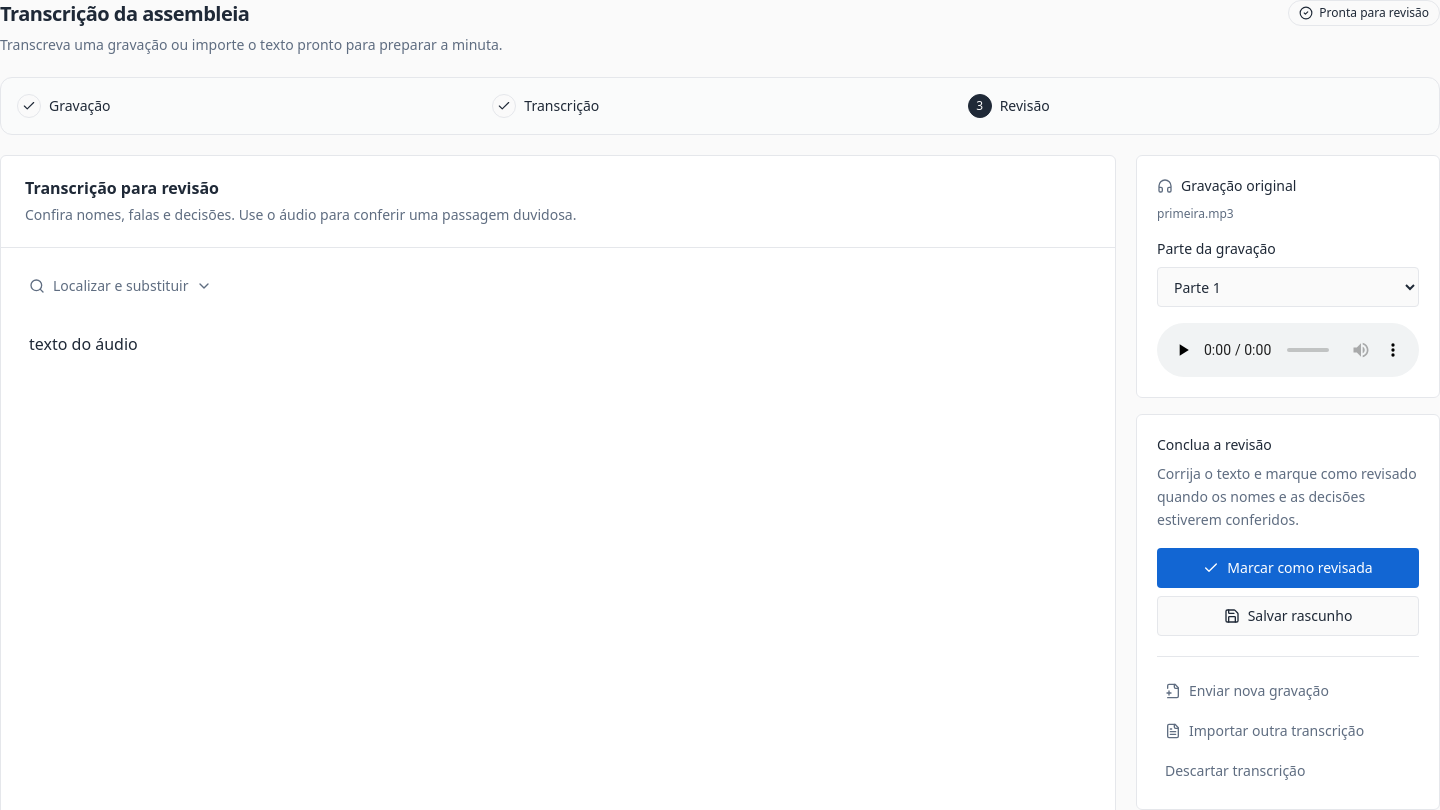
Test: AtaTranscriptionPanel · revisão das partes › plays the selected part and allows moving past an unavailable recording
Later steps or results of the test are not shown.
Select "Parte 2" in the dropdown labelled "Parte da gravação". click: (1288, 287)
box: [1157, 267, 1419, 307]
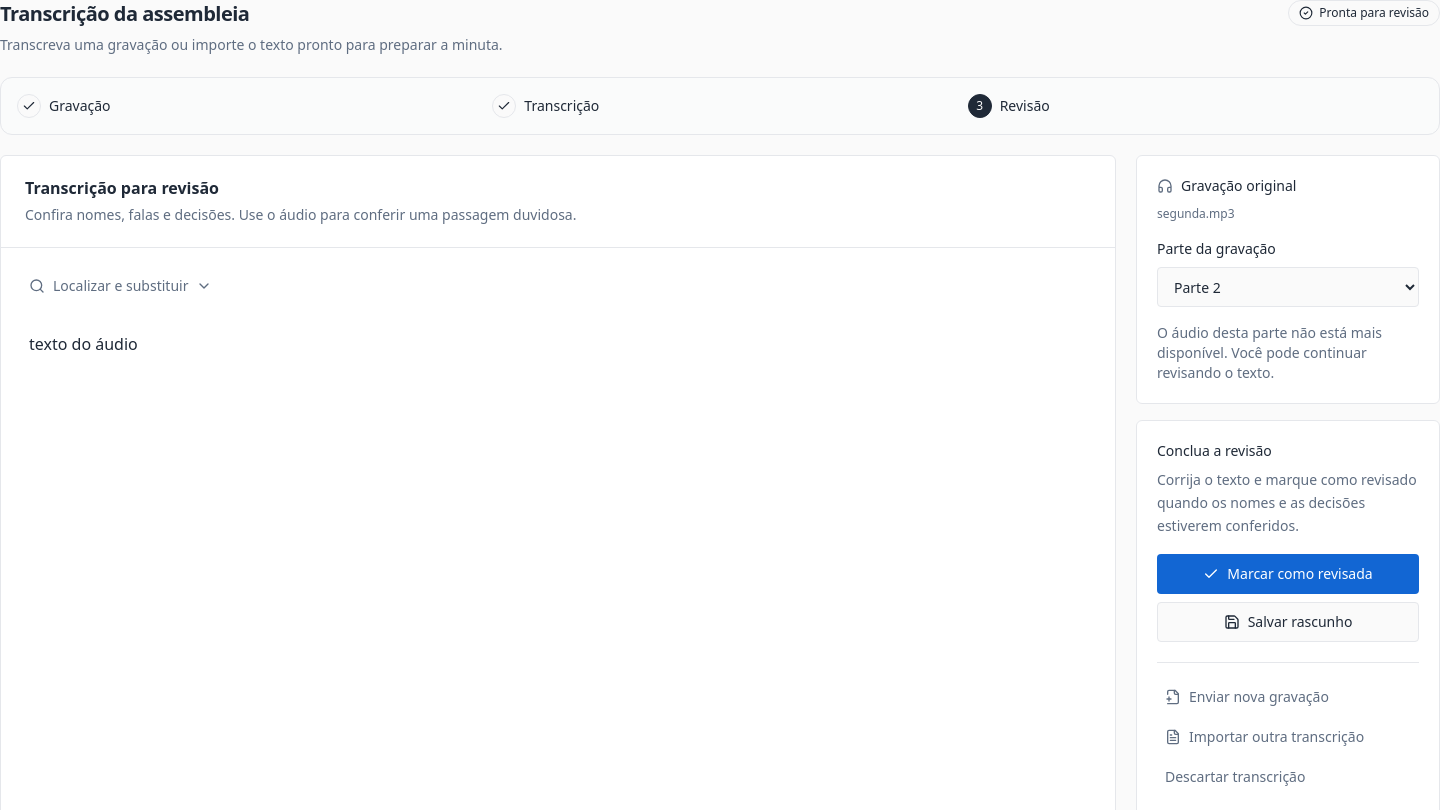
Expected: the text "O áudio desta parte não está mais disponível" is shown, [1157, 323, 1382, 382]
